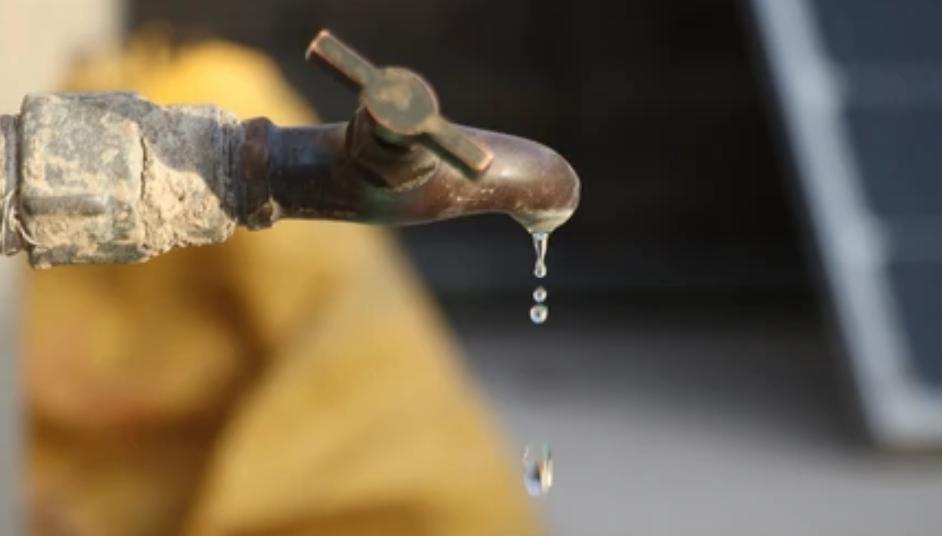water drop: (525, 449, 554, 494), (531, 232, 548, 277), (530, 306, 548, 324), (530, 286, 546, 302)
